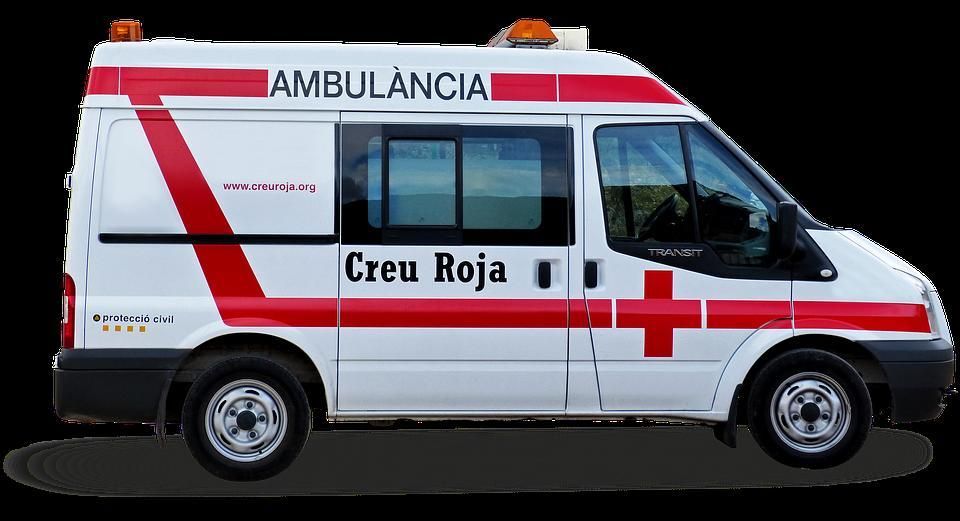Ambulance: (267, 66, 490, 104)
